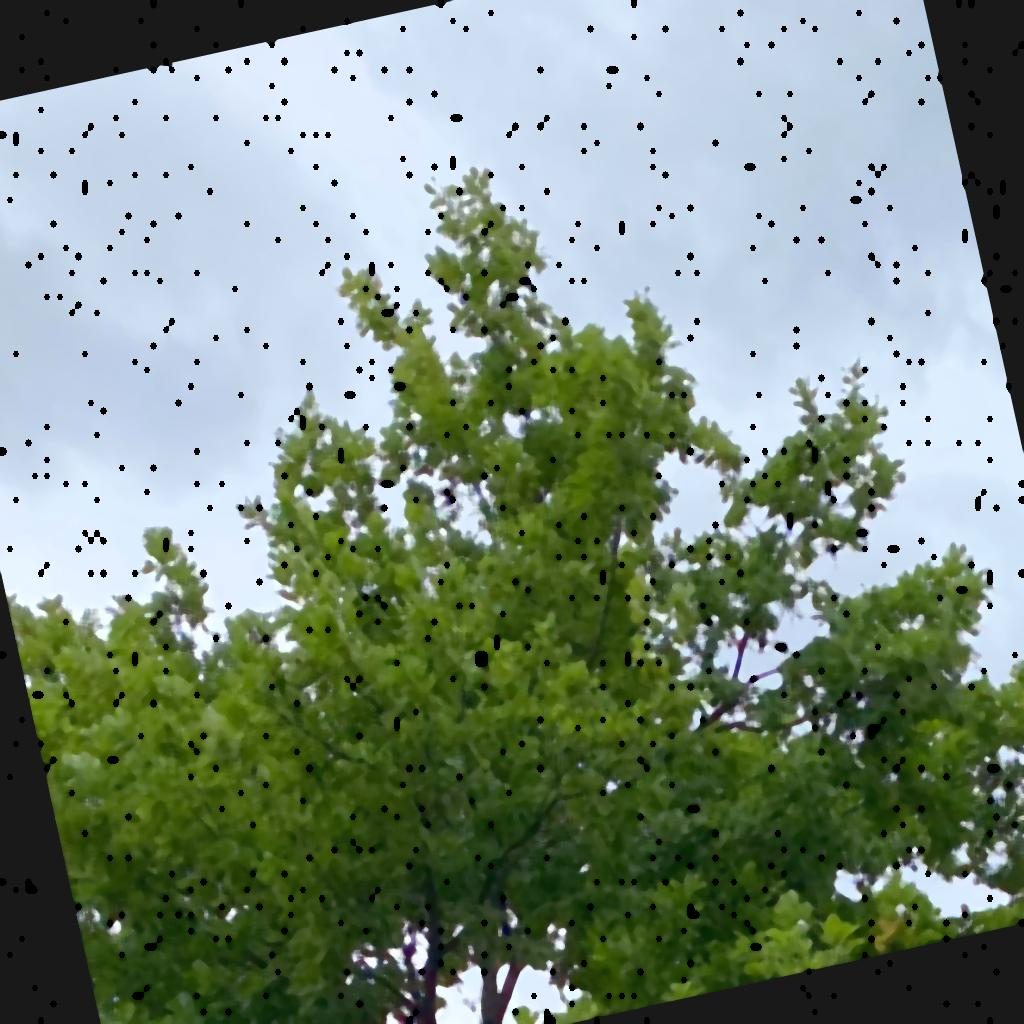tree: (1, 165, 1023, 1024)
